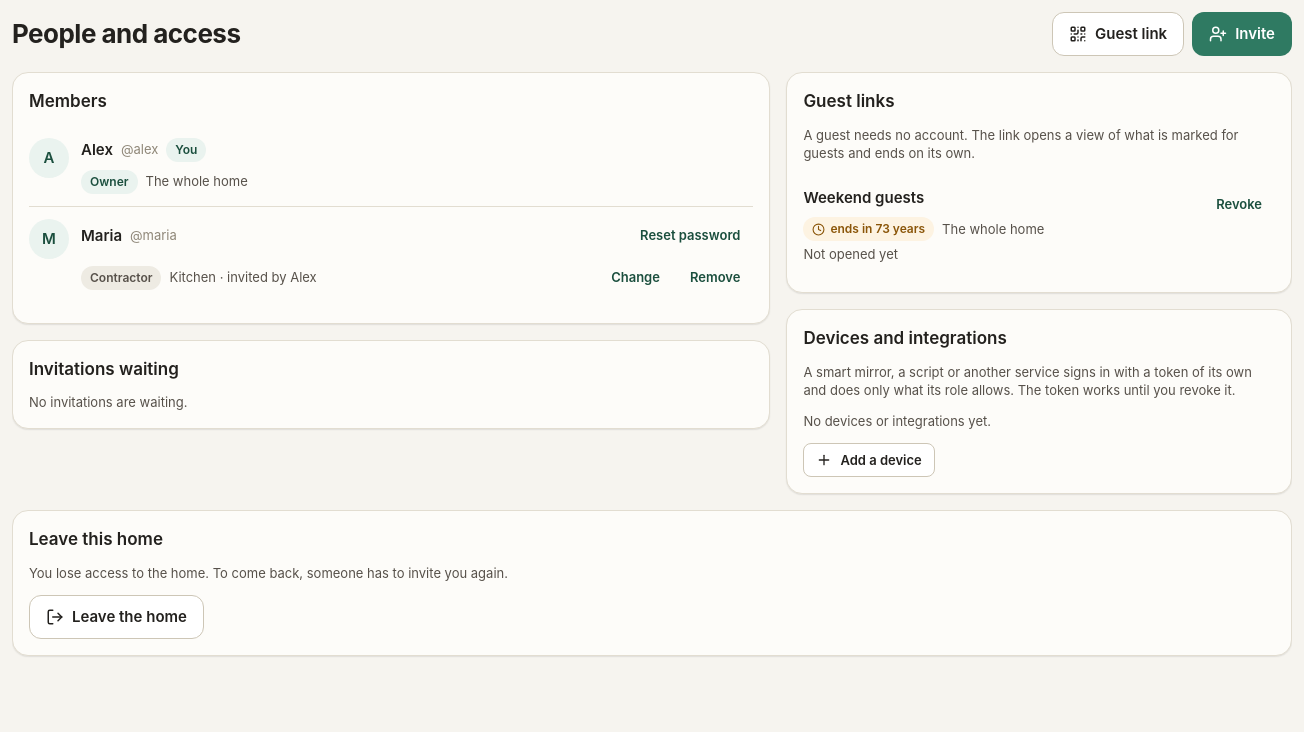
Test: PeoplePage › revokes a guest link in one click
Click the button with aria-label "Revoke the guest link “Weekend guests”": [1239, 204] box [1203,187,1275,221]
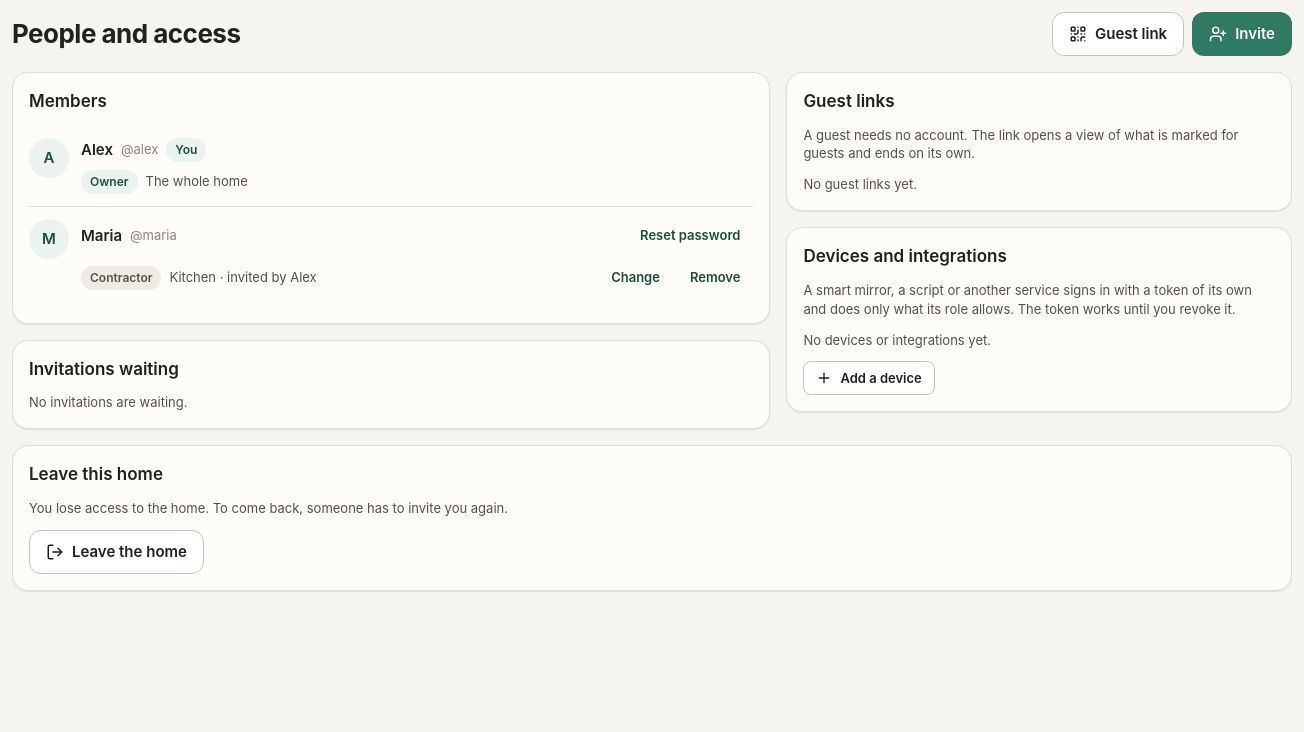
Check: the text "No guest links yet." is shown, box [803,176,917,192]
